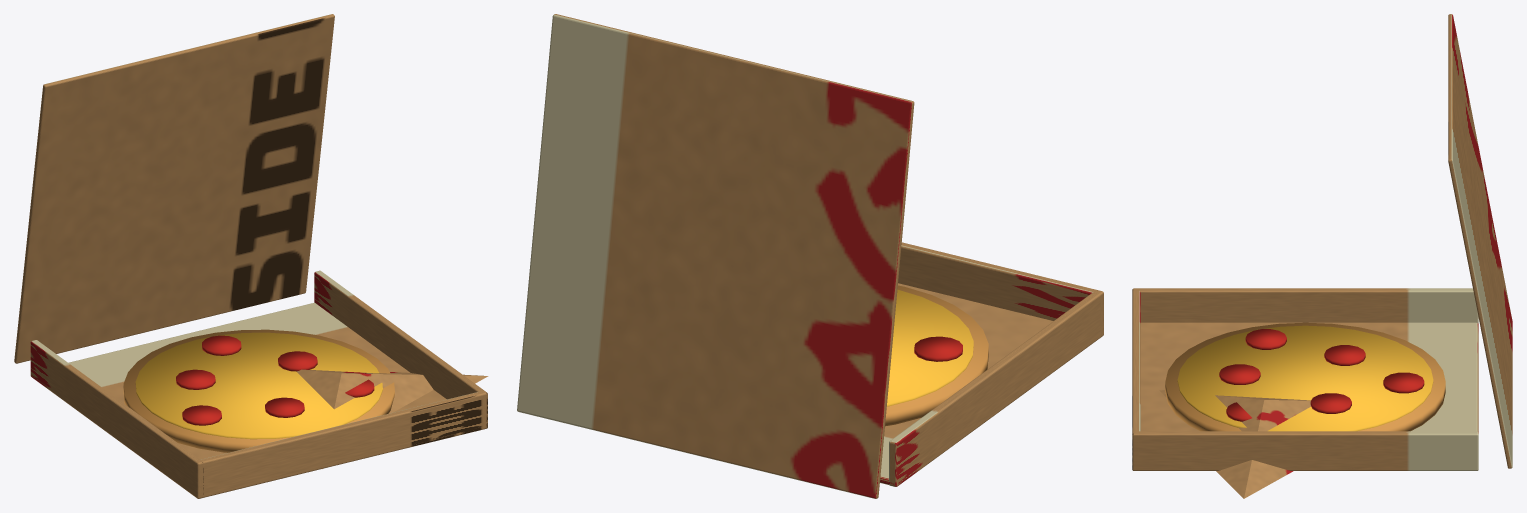
The model's file is Trash_PizzaBoxOpen.fbx.
3 renders of one model, left to right at view 1: azimuth 30°, elevation 25°; view 2: azimuth 150°, elevation 25°; view 3: azimuth 270°, elevation 25°, orthographic. The views are drawn at different scales.
Parts seen in each view (by area): view 1: Trash_PizzaBoxOpen; view 2: Trash_PizzaBoxOpen; view 3: Trash_PizzaBoxOpen.
Part boxes in pixels (bbox=[...]): Trash_PizzaBoxOpen: bbox=[14, 14, 488, 498]; Trash_PizzaBoxOpen: bbox=[517, 14, 1103, 498]; Trash_PizzaBoxOpen: bbox=[1132, 14, 1512, 498].
Size of the model in its own units: 0.4985 by 0.417 by 0.4611.
Materials: 5 (2 with a texture image).
